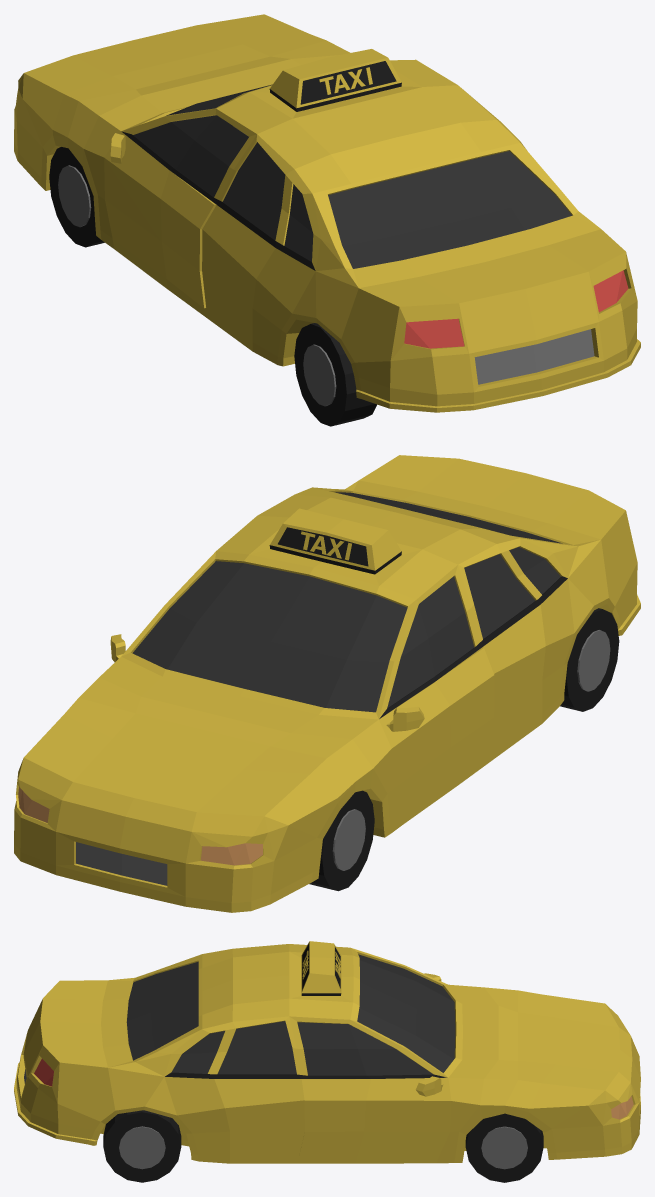
Rendered from taxi.glb.
3 views of the same model, one above another, from view 1: azimuth 30°, elevation 25°; view 2: azimuth 150°, elevation 25°; view 3: azimuth 270°, elevation 25° (orthographic). The views are drawn at different scales.
Parts seen in each view (by area): view 1: Body, Wheel_RL, Wheel_FL; view 2: Body, Wheel_RL, Wheel_FL; view 3: Body, Wheel_RR, Wheel_FR.
Part boxes in pixels (x1,y1,x2,y2): Body: [14, 14, 640, 412]; Wheel_RL: [294, 323, 376, 426]; Wheel_FL: [49, 147, 104, 247]; Body: [14, 455, 640, 912]; Wheel_RL: [560, 608, 619, 711]; Wheel_FL: [309, 790, 374, 891]; Body: [14, 941, 640, 1163]; Wheel_RR: [103, 1110, 181, 1182]; Wheel_FR: [465, 1113, 543, 1182].
Bounding box in the file's own units: 1.97 × 1.43 × 4.6.
